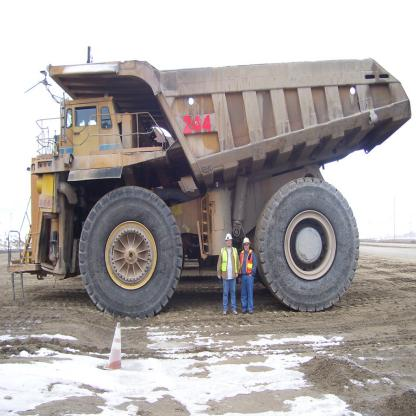dump_truck: (24, 44, 410, 332)
person: (214, 228, 237, 319), (240, 235, 258, 316)
